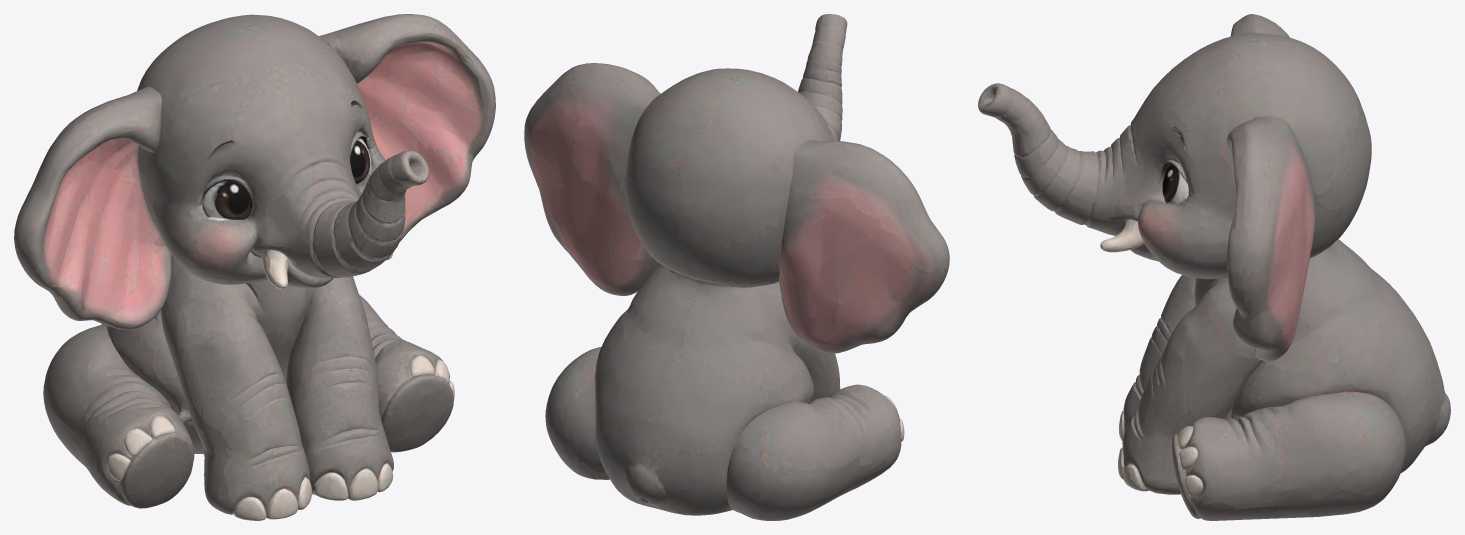
3 views of the same model, side by side, from view 1: azimuth 30°, elevation 25°; view 2: azimuth 150°, elevation 25°; view 3: azimuth 270°, elevation 25° (orthographic). The views are drawn at different scales.
Visible parts, largest first — view 1: output_unwrapped; view 2: output_unwrapped; view 3: output_unwrapped.
Part boxes in pixels (left/top/right/bottom): output_unwrapped: left=14, top=14, right=495, bottom=520; output_unwrapped: left=524, top=14, right=949, bottom=520; output_unwrapped: left=978, top=14, right=1450, bottom=520.
Size of the model in its own units: 1.9 by 1.65 by 1.72.
Materials: 1 (1 with a texture image).
